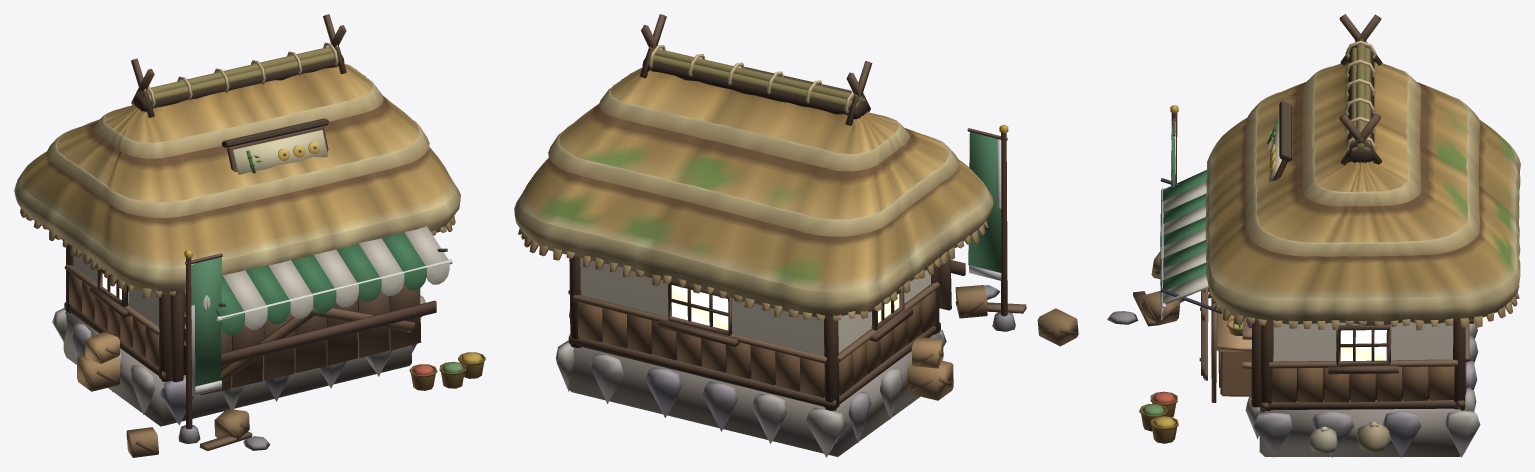
File: zv-bamboo-shop.glb
3 views of the same model, side by side, from view 1: azimuth 30°, elevation 25°; view 2: azimuth 150°, elevation 25°; view 3: azimuth 270°, elevation 25° (orthographic). The views are drawn at different scales.
Visible parts, largest first — view 1: zv-bamboo-shop, saved, siege; view 2: zv-bamboo-shop, saved, siege, window_glow; view 3: zv-bamboo-shop, saved, siege, window_glow.
Boxes of the visible parts, x1,y1,x2,y2 form: zv-bamboo-shop: (14,14,460,426); saved: (178,226,485,443); siege: (126,283,436,457); zv-bamboo-shop: (514,14,993,457); saved: (967,124,1015,331); siege: (939,254,1078,346); window_glow: (671,285,899,330); zv-bamboo-shop: (1205,14,1520,457); saved: (1139,105,1243,443); siege: (1107,251,1216,402); window_glow: (1340,330,1386,361).
Size of the model in its own units: 4.96 by 4.06 by 4.59.
